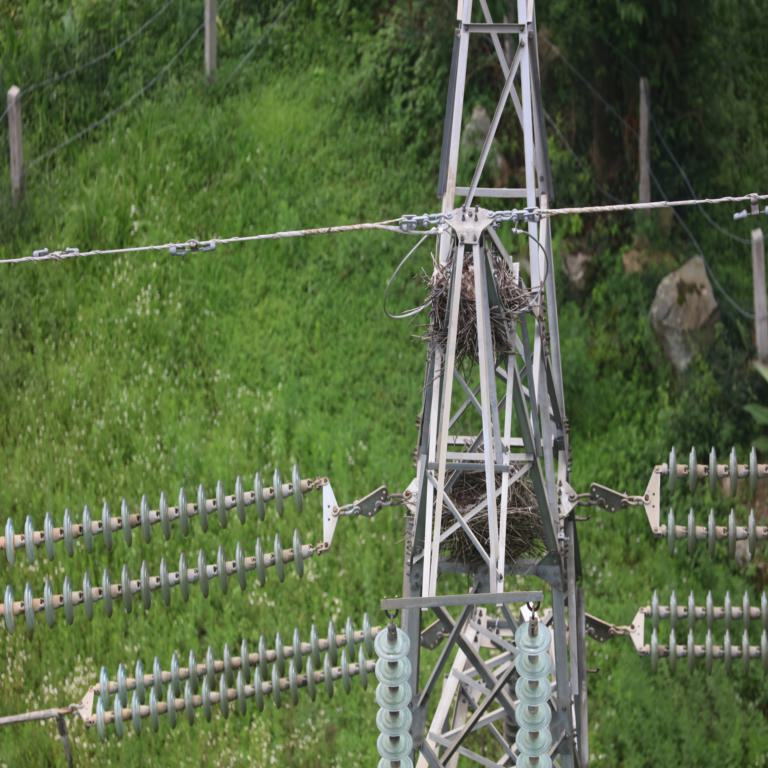nest: (425, 262, 527, 371), (447, 459, 537, 555)
